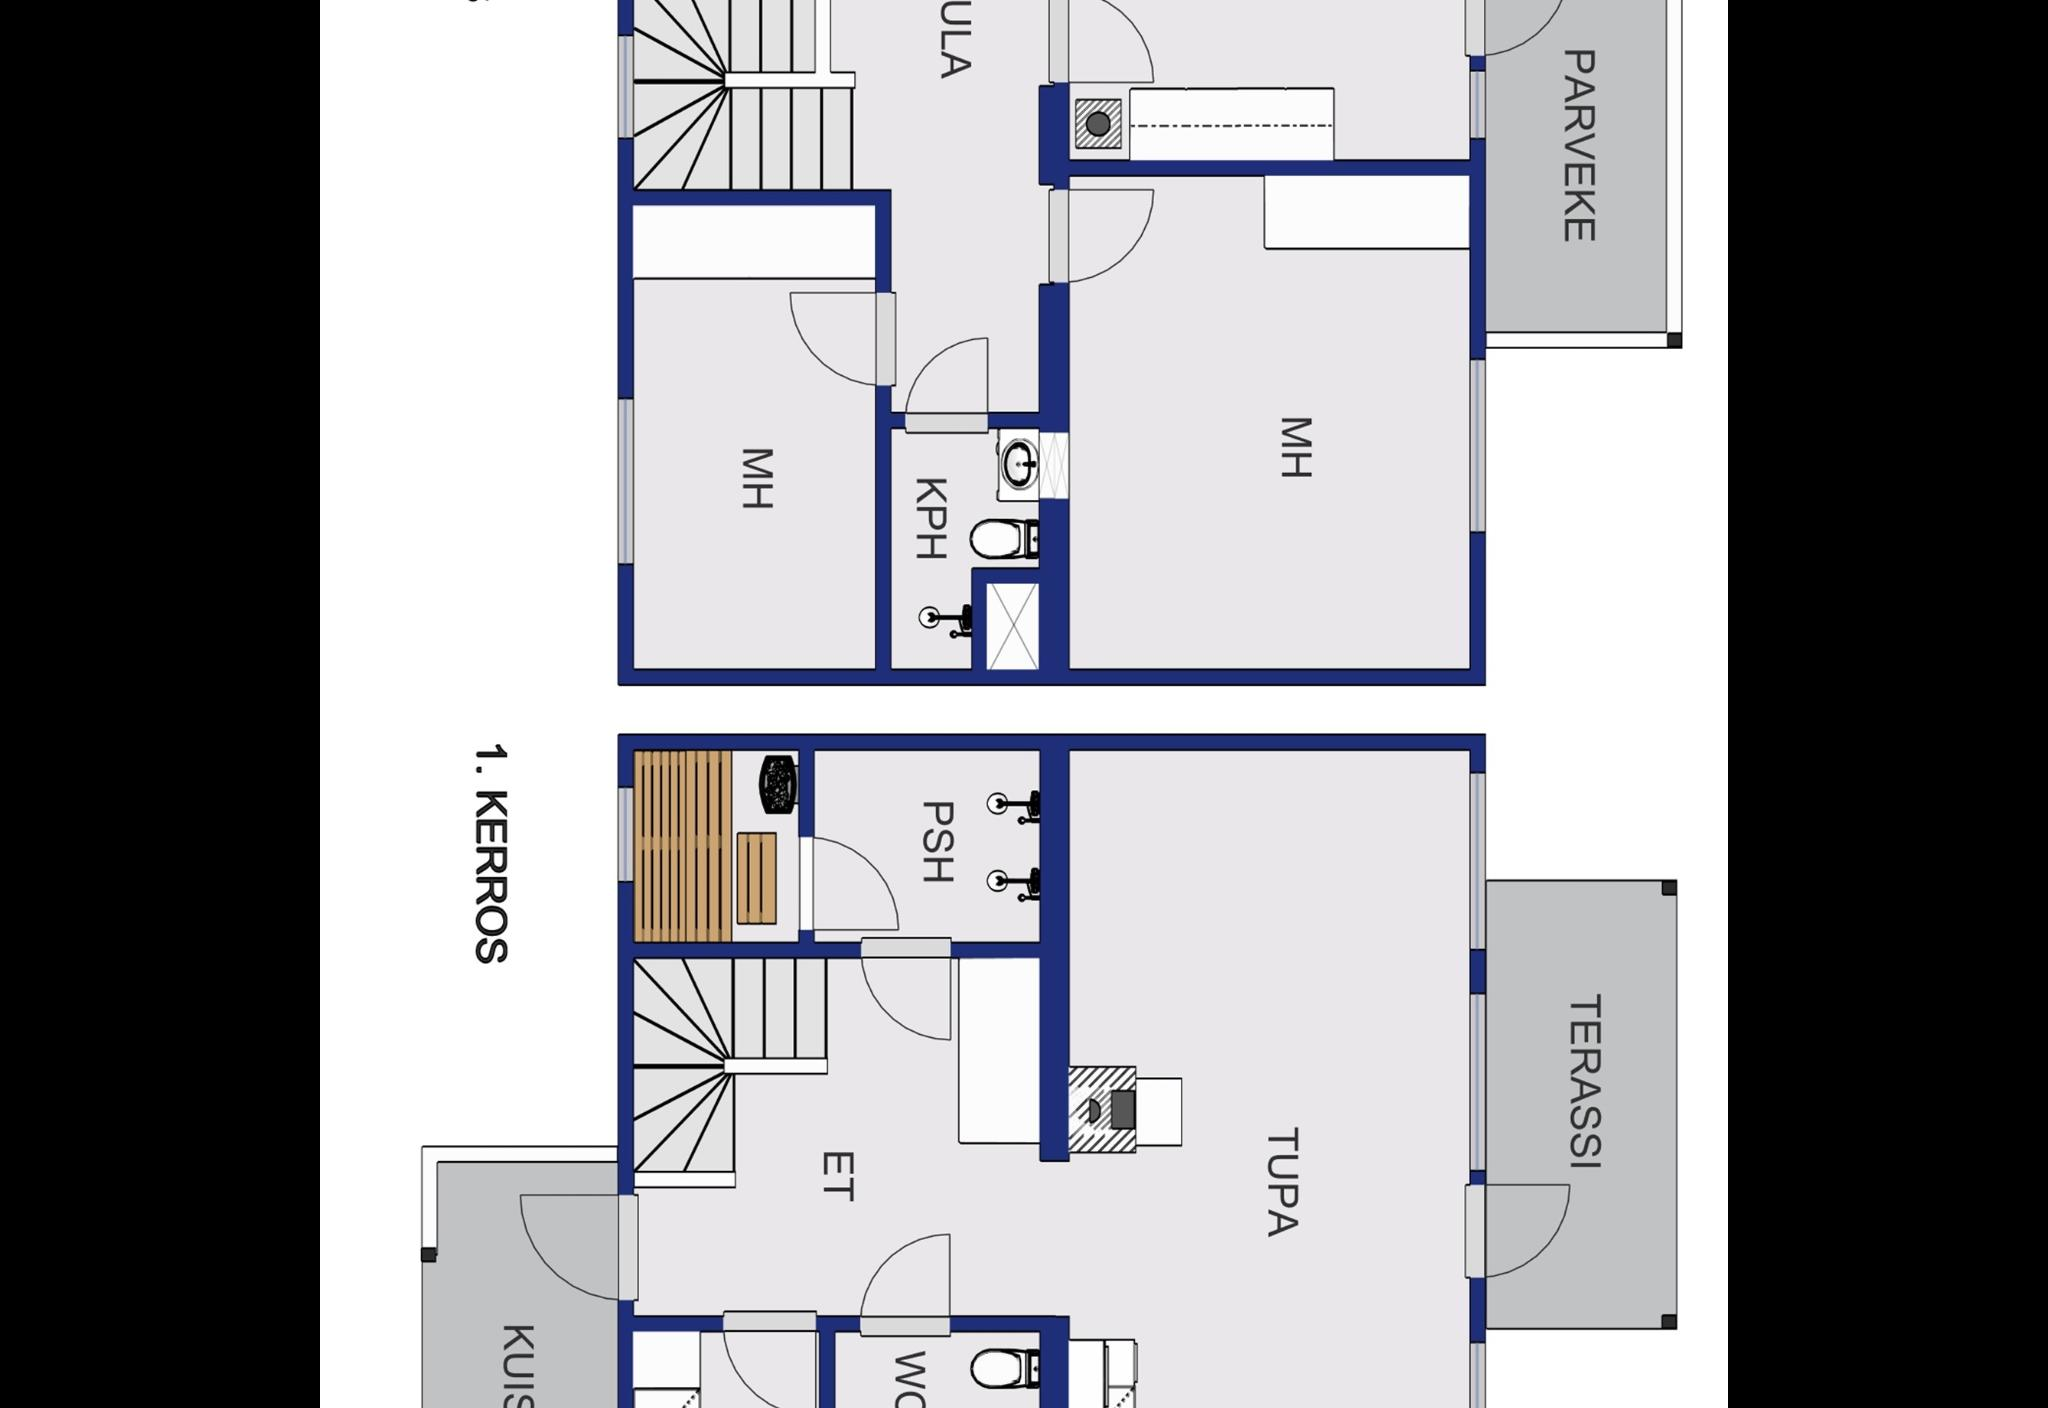door: (514, 1187, 641, 1304), (1041, 179, 1153, 294), (786, 283, 904, 389), (1460, 1181, 1575, 1288), (853, 924, 957, 1042), (713, 1298, 820, 1408), (795, 834, 904, 937), (859, 1229, 954, 1341), (1040, 0, 1159, 86), (900, 334, 991, 434), (1461, 0, 1575, 72)
window: (605, 383, 644, 579), (1461, 983, 1492, 1184), (1461, 765, 1492, 960), (1466, 345, 1494, 545), (605, 770, 641, 890), (605, 25, 638, 149), (1452, 61, 1492, 149), (1461, 1332, 1492, 1408)
